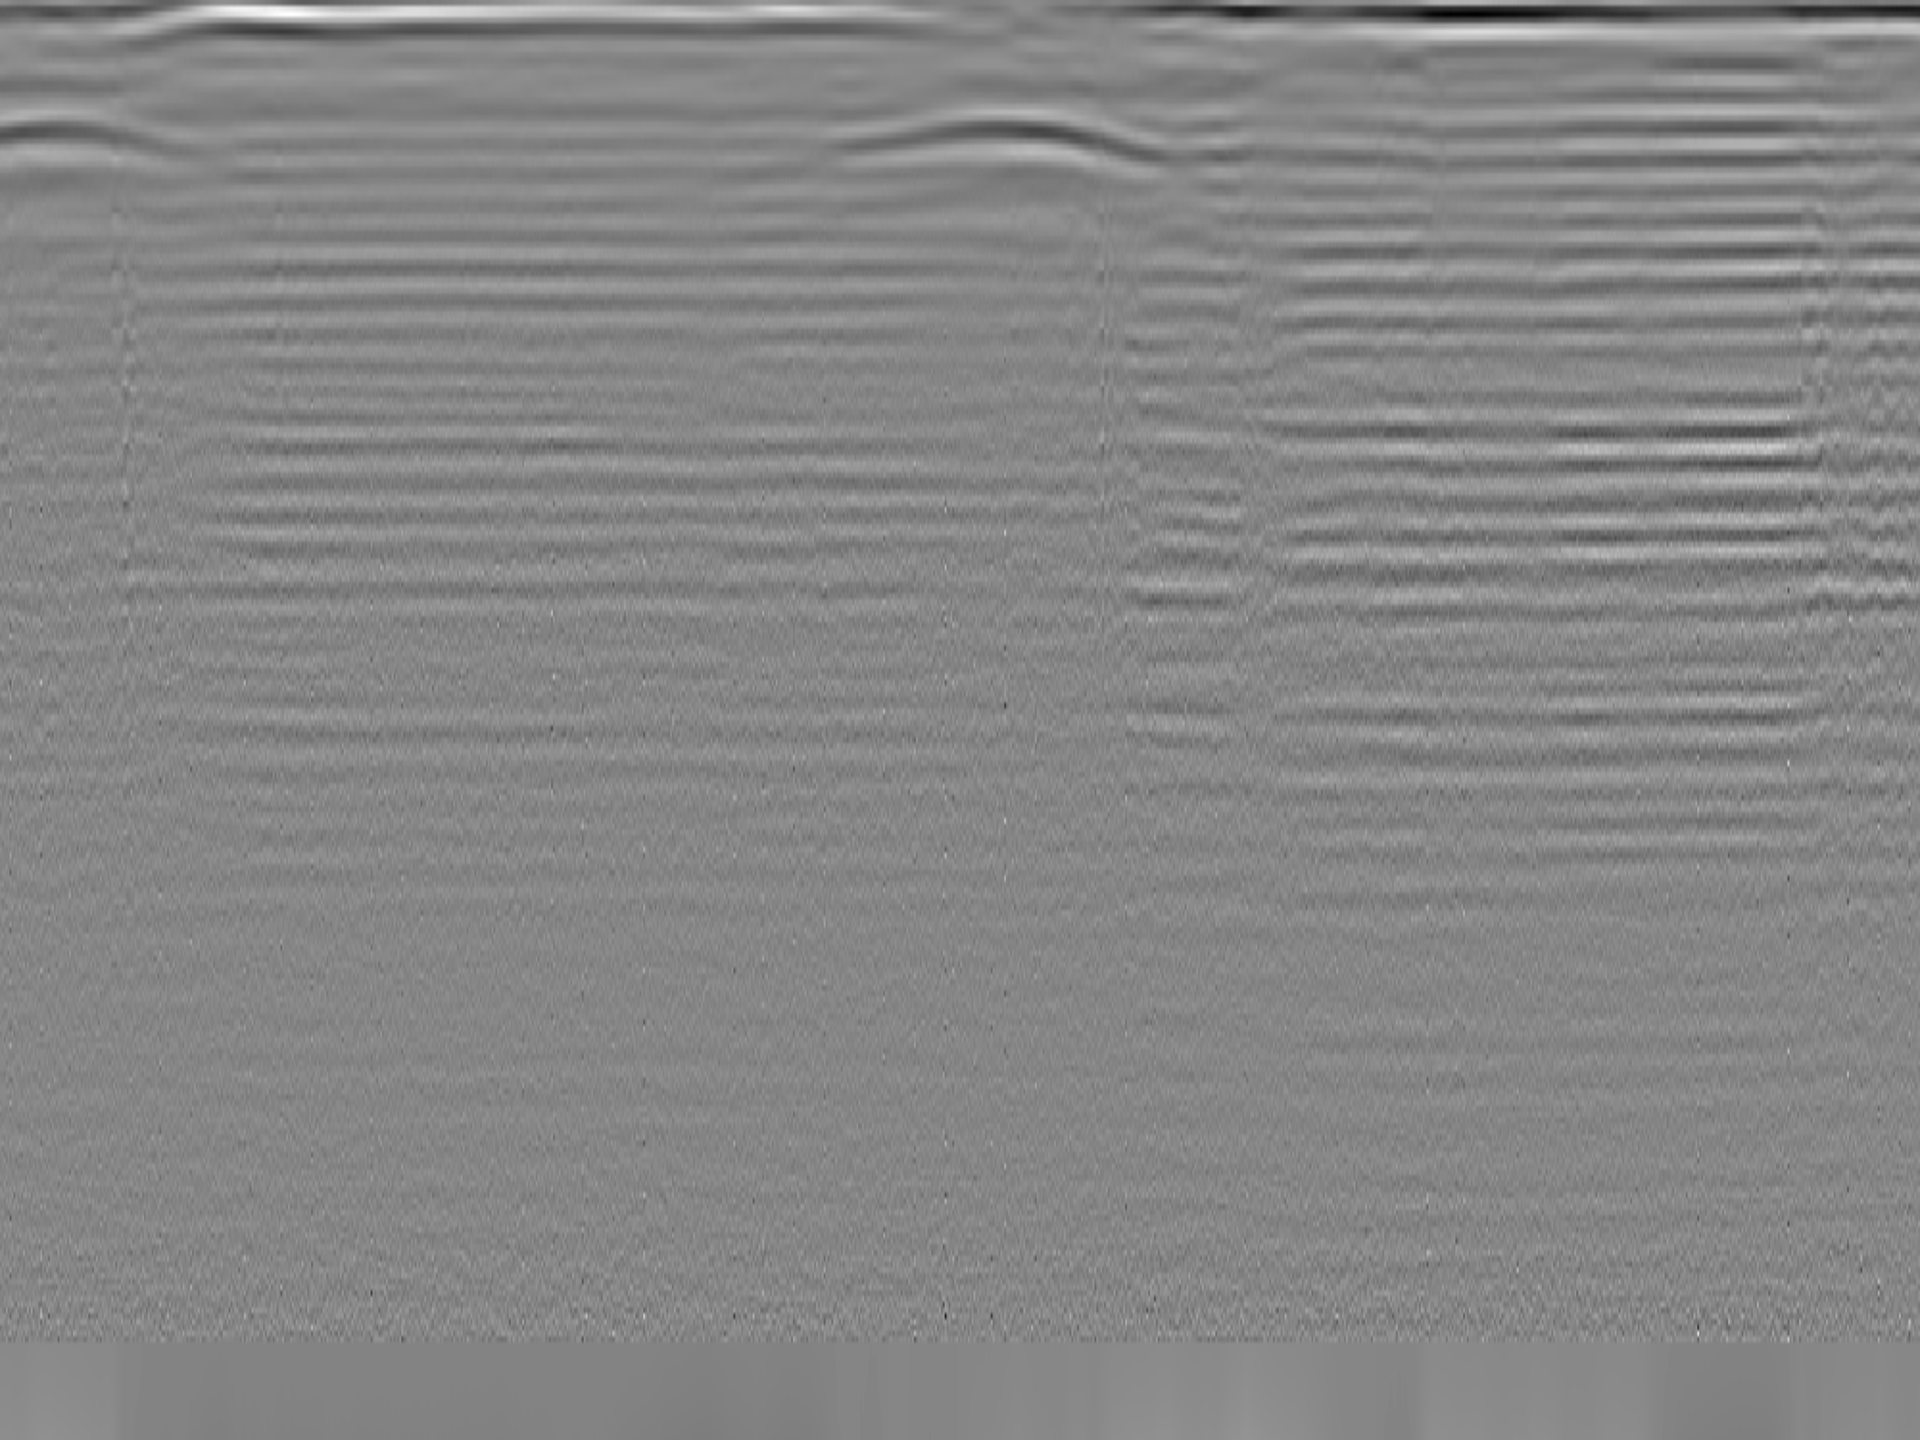Tunnel: (819, 106, 1190, 182)
